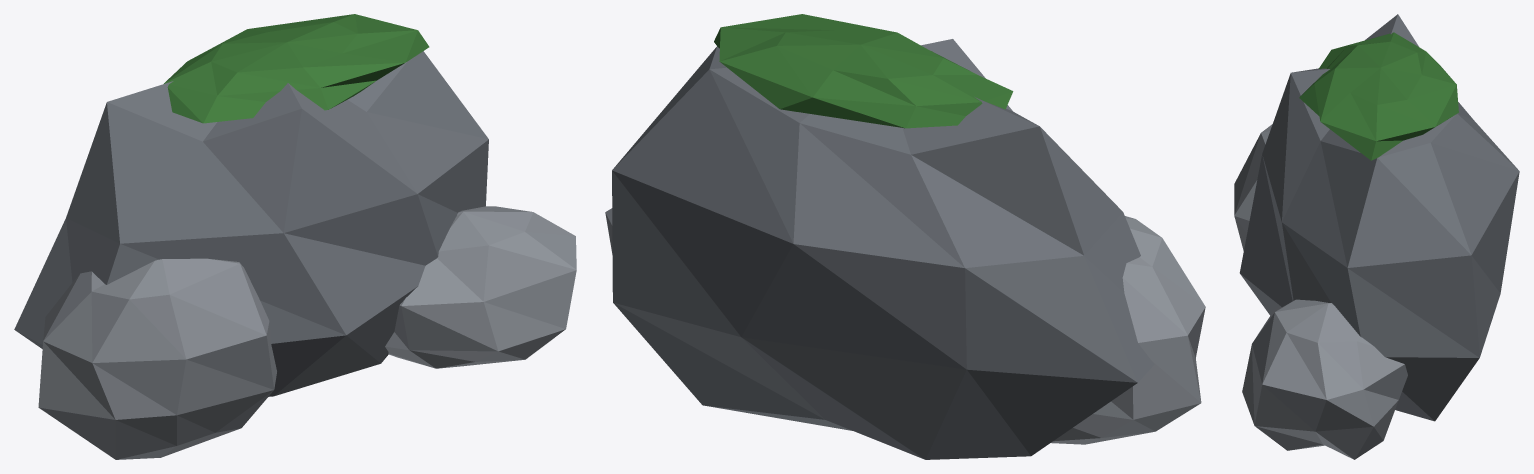
File: cliff_chunk.glb
The picture shows the model from 3 angles, left to right: view 1: azimuth 30°, elevation 25°; view 2: azimuth 150°, elevation 25°; view 3: azimuth 270°, elevation 25°; orthographic projection. The views are drawn at different scales.
Visible parts, largest first — view 1: cliff_chunk; view 2: cliff_chunk; view 3: cliff_chunk.
Boxes of the visible parts, bbox=[...] form: cliff_chunk: bbox=[14, 14, 576, 459]; cliff_chunk: bbox=[605, 14, 1205, 459]; cliff_chunk: bbox=[1234, 14, 1519, 459].
Size of the model in its own units: 6.55 by 4.05 by 3.28.
